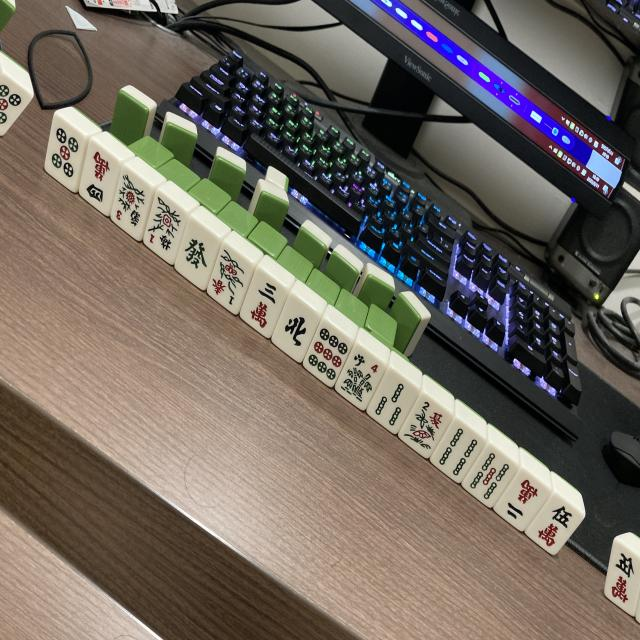f1: (139, 196, 190, 264)
f3: (106, 173, 158, 241)
f4: (333, 347, 387, 411)
fa: (170, 220, 223, 288)
ff1: (204, 247, 258, 312)
ff2: (398, 394, 454, 458)
m2: (495, 466, 552, 532)
m3: (238, 271, 292, 337)
m4: (75, 145, 126, 215)
m5: (526, 494, 586, 556), (602, 542, 640, 615)
north: (269, 296, 321, 362)
s3: (366, 368, 421, 433)
s4: (430, 422, 486, 484)
s5: (462, 445, 518, 507)
t5: (42, 116, 94, 191), (0, 72, 34, 137)
t9: (301, 322, 354, 387)
